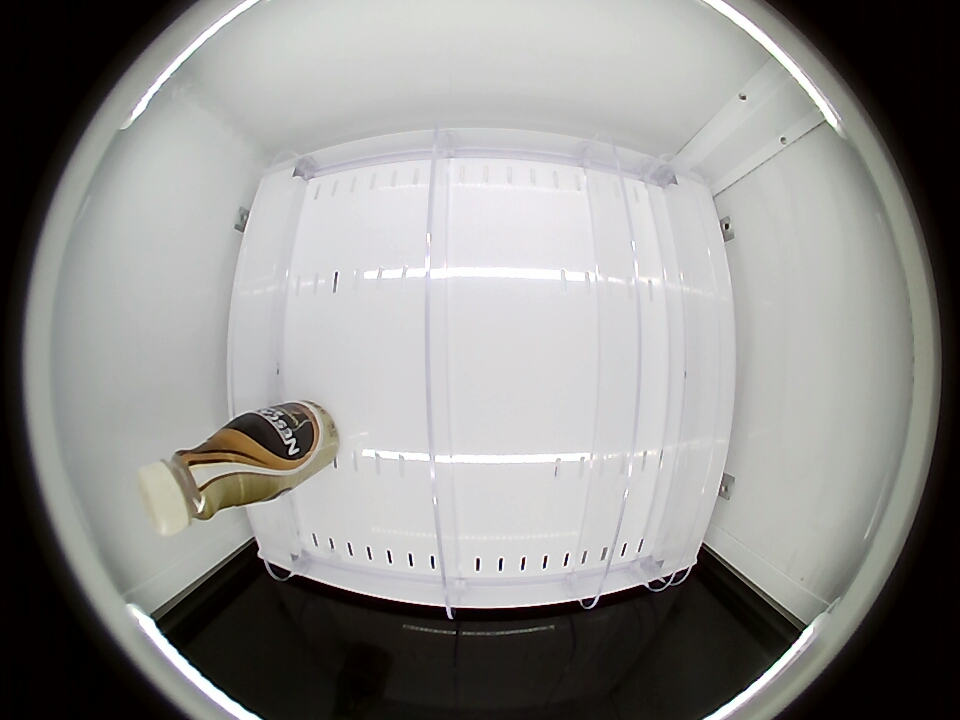kafei: (137, 419, 283, 535)
